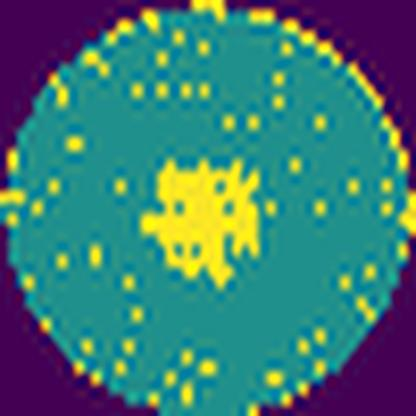Center: (142, 158, 260, 289)
